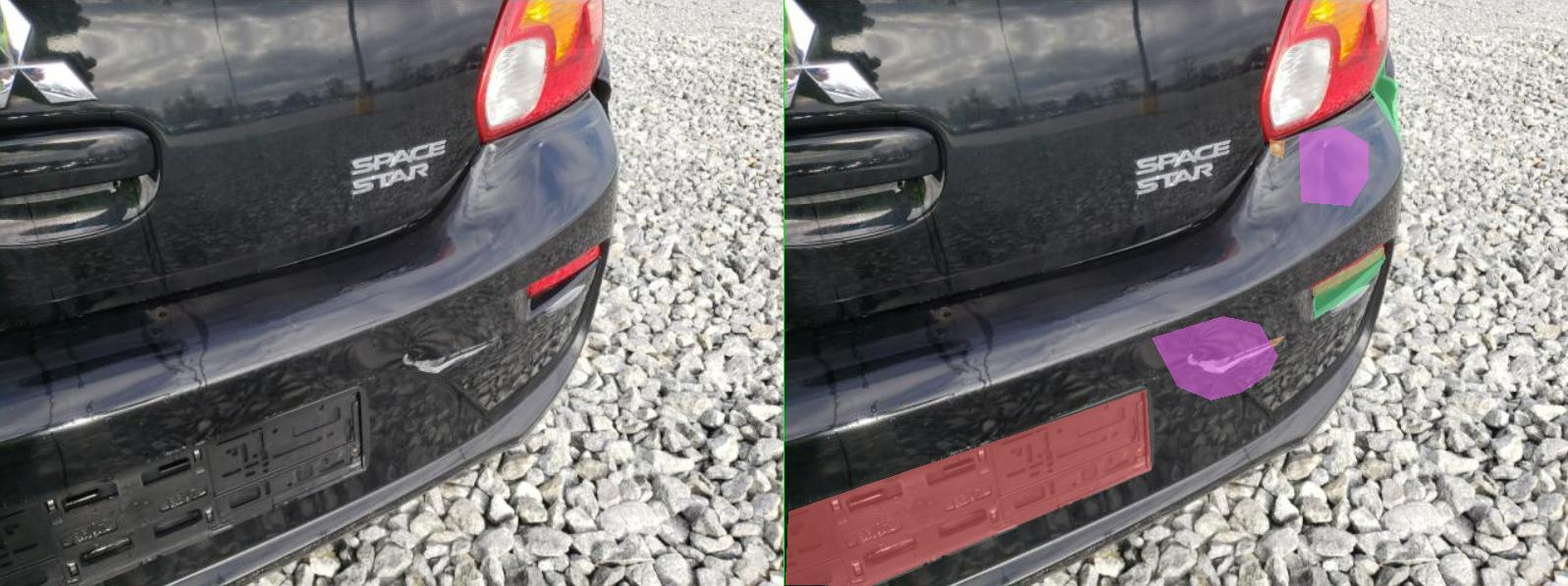Broken part: (1057, 247, 1201, 318), (1171, 56, 1232, 142)
Dent: (735, 316, 986, 400), (1030, 126, 1167, 205)
Missing part: (2, 390, 733, 585)
Paint chip: (802, 337, 998, 378), (1063, 132, 1106, 152), (971, 139, 1000, 158)
